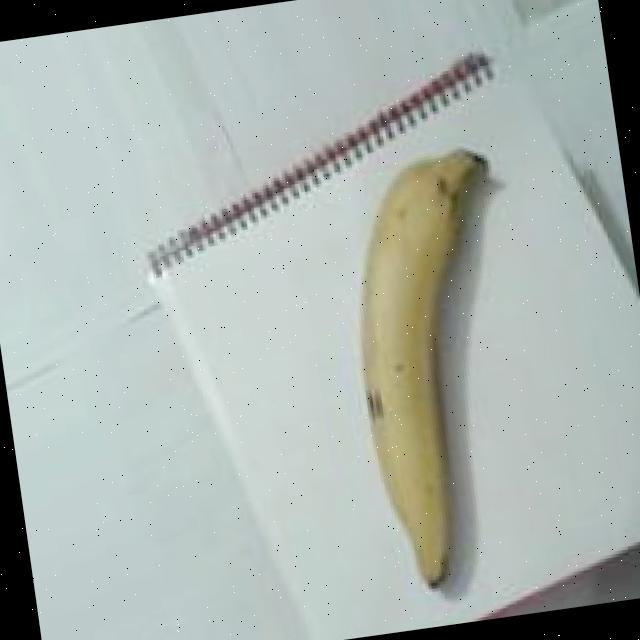banana: (253, 105, 591, 621)
